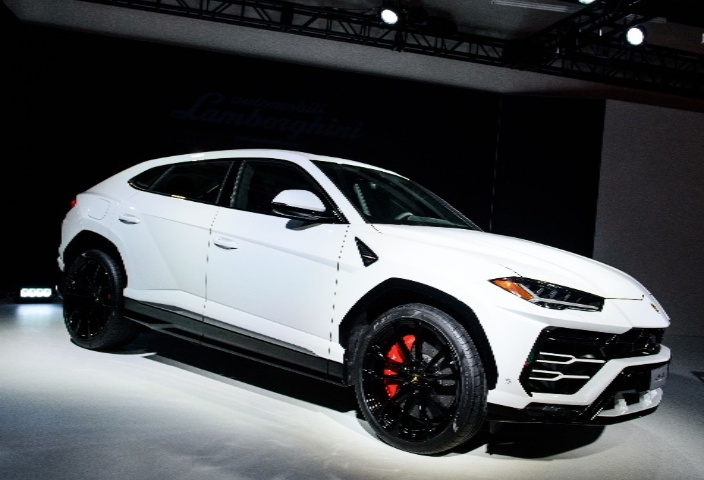car: (31, 109, 678, 466)
